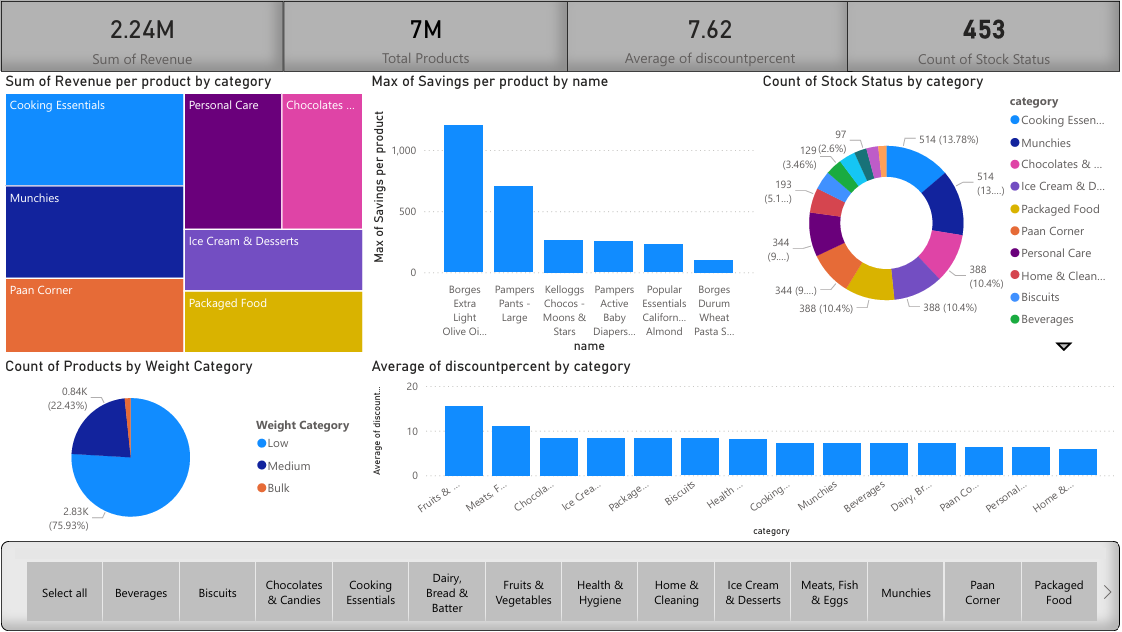

The dashboard page shown, as its layout file describes it:
{"tool":"powerbi","page":{"name":"Page 1","canvas":[1280,720],"ordinal":0},"visuals":[{"type":"treemap","fields":{"Values":["Sum(public zepto.Revenue per product)"],"Group":["public zepto.category"]},"box":[0,81.4,418.6,325.7],"z":0},{"type":"clusteredColumnChart","fields":{"Category":["public zepto.name"],"Y":["Max(public zepto.Savings per product)"]},"box":[418.6,81.4,447.1,325.7],"z":1000},{"type":"donutChart","fields":{"Category":["public zepto.category"],"Y":["CountNonNull(public zepto.Stock Status)"]},"box":[865.7,81.4,414.3,325.7],"z":2000},{"type":"pieChart","title":"Count of Products by Weight Category","fields":{"Category":["public zepto.Weight Category"],"Y":["CountNonNull(public zepto.name)"]},"box":[0,407.1,418.6,210],"z":3000},{"type":"clusteredColumnChart","fields":{"Category":["public zepto.category"],"Y":["Avg(public zepto.discountpercent)"]},"box":[418.6,407.1,861.4,210],"z":4000},{"type":"card","fields":{"Values":["Sum(public zepto.Revenue per product)"]},"box":[0,0,322.9,81.4],"z":5000},{"type":"card","fields":{"Values":["Sum(public zepto.sku_id)"]},"box":[322.5,0,325,81.2],"z":6000},{"type":"card","fields":{"Values":["Avg(public zepto.discountpercent)"]},"box":[647.5,0,326.2,81.2],"z":7000},{"type":"card","fields":{"Values":["public zepto.Measure 2"]},"box":[967.1,0,312.9,81.4],"z":8000},{"type":"slicer","fields":{"Values":["public zepto.category"]},"box":[0,617.1,1280,102.9],"z":9000}]}

Visuals, with their boxes in screenshot pixels (x1, y1, x2, y2), scaled from the page's 1280x720 canvas onto the 1122x632 screenshot:
treemap - Sum(public zepto.Revenue per product) x public zepto.category: bbox(0, 71, 367, 357)
clusteredColumnChart - public zepto.name x Max(public zepto.Savings per product): bbox(367, 71, 759, 357)
donutChart - public zepto.category x CountNonNull(public zepto.Stock Status): bbox(759, 71, 1121, 357)
"Count of Products by Weight Category" pieChart: bbox(0, 357, 367, 542)
clusteredColumnChart - public zepto.category x Avg(public zepto.discountpercent): bbox(367, 357, 1121, 542)
card - Sum(public zepto.Revenue per product): bbox(0, 0, 283, 71)
card - Sum(public zepto.sku_id): bbox(283, 0, 568, 71)
card - Avg(public zepto.discountpercent): bbox(568, 0, 854, 71)
card - public zepto.Measure 2: bbox(848, 0, 1121, 71)
slicer - public zepto.category: bbox(0, 542, 1121, 631)
